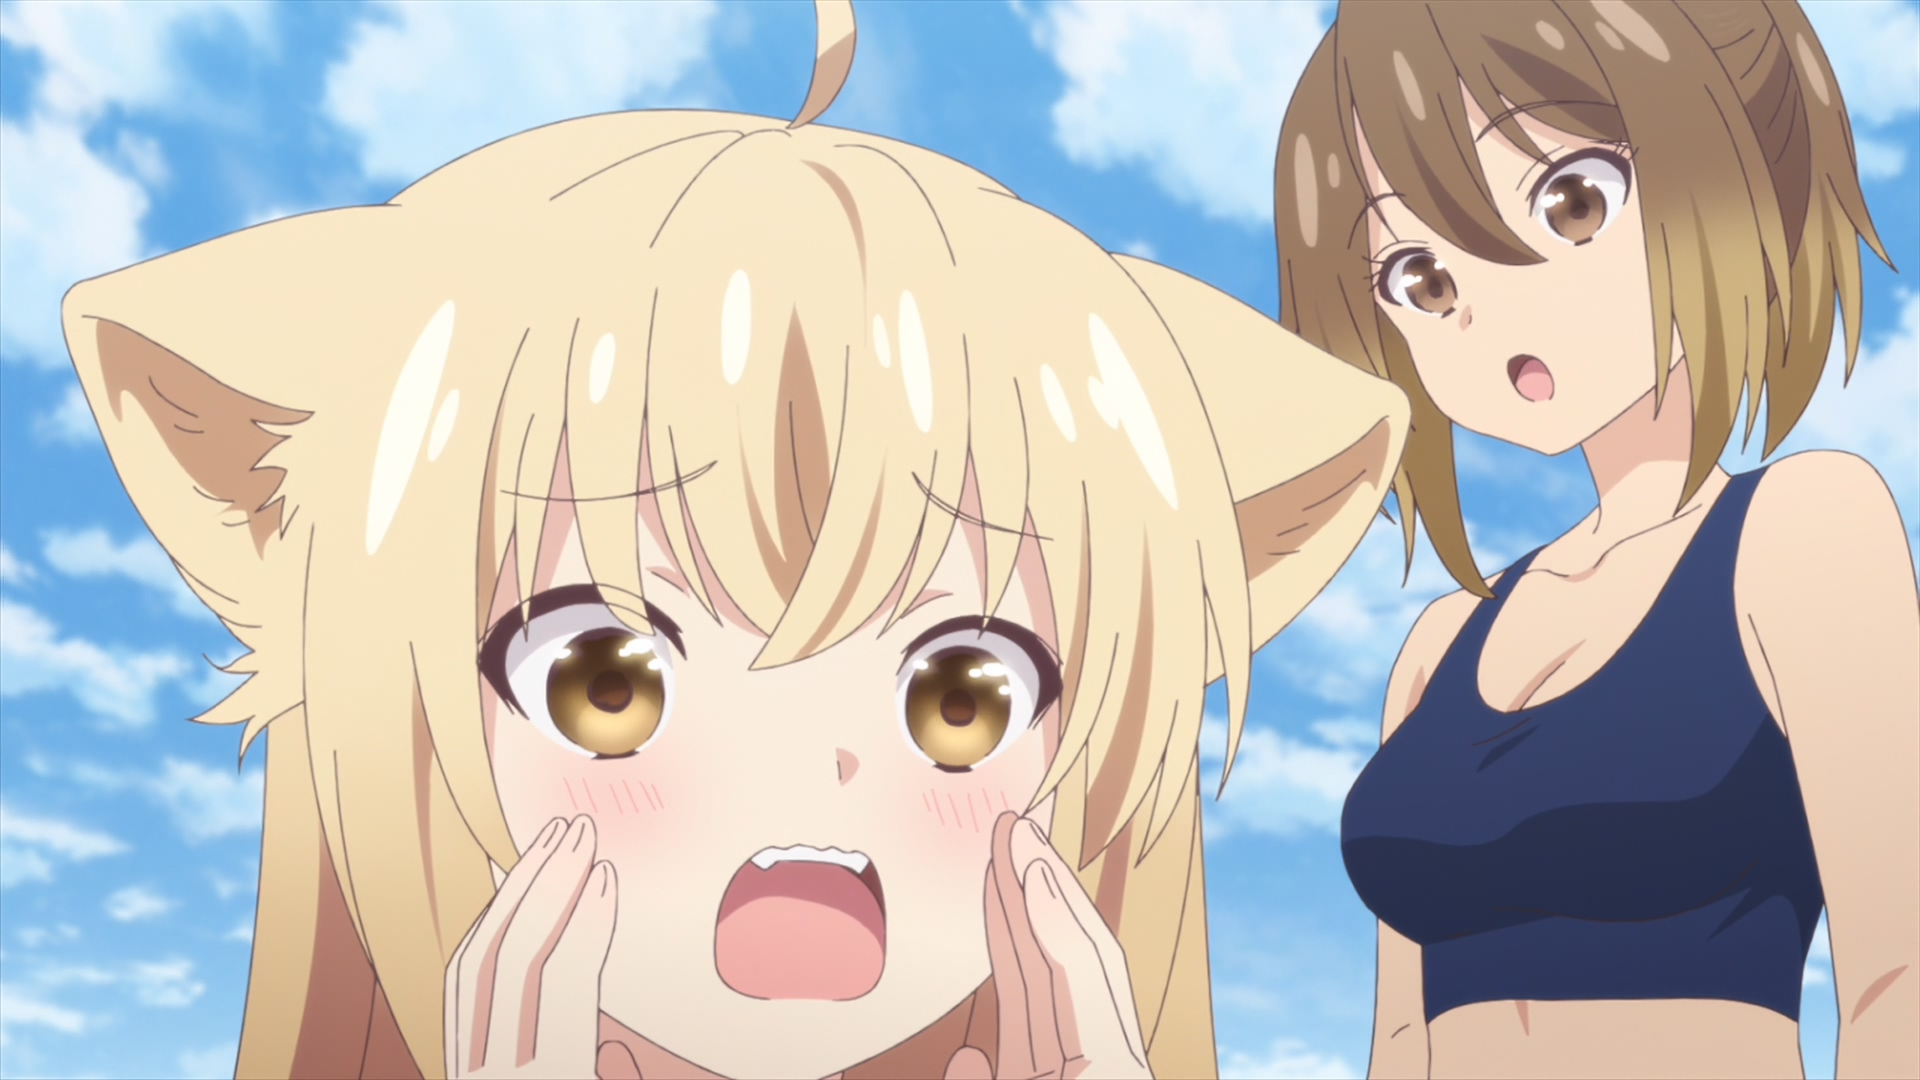其他: (1274, 1, 1920, 1080)
柚: (63, 1, 1411, 1080)
